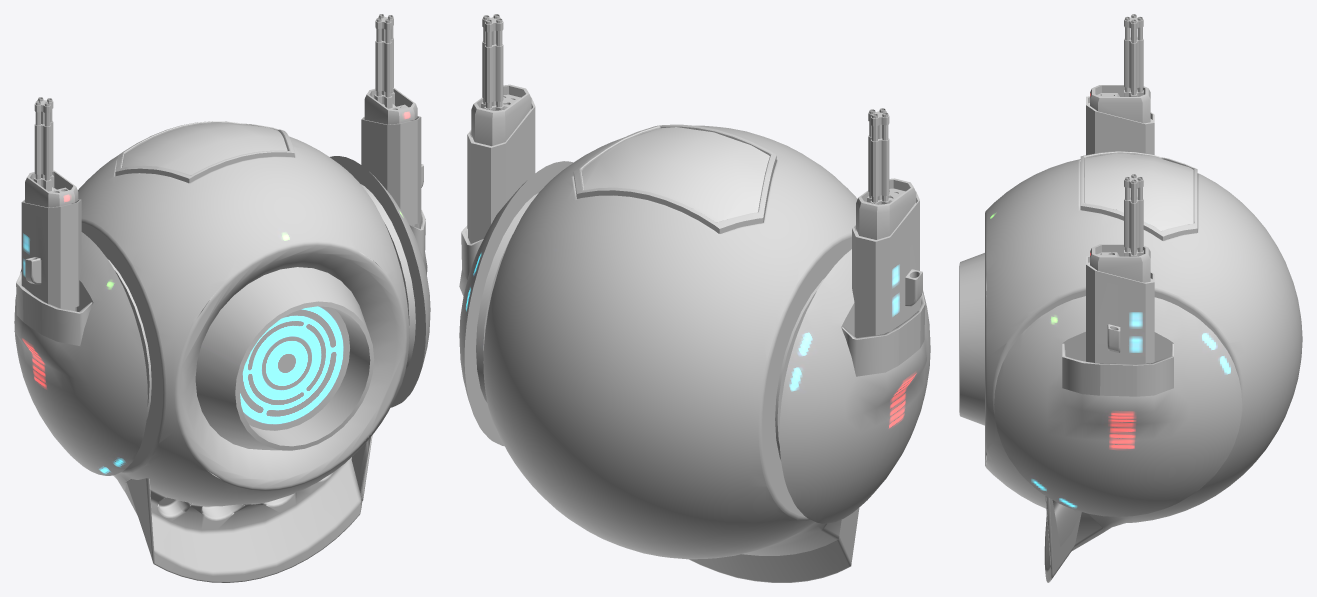
Rendered from droid.fbx.
The picture shows the model from 3 angles, left to right: view 1: azimuth 30°, elevation 25°; view 2: azimuth 150°, elevation 25°; view 3: azimuth 270°, elevation 25°; orthographic projection. The views are drawn at different scales.
Parts seen in each view (by area): view 1: glass; view 2: glass; view 3: glass.
Boxes of the visible parts, <box> form: glass: <box>14,14,430,582</box>; glass: <box>459,14,930,582</box>; glass: <box>959,14,1302,582</box>.
Size of the model in its own units: 193 by 228 by 152.
